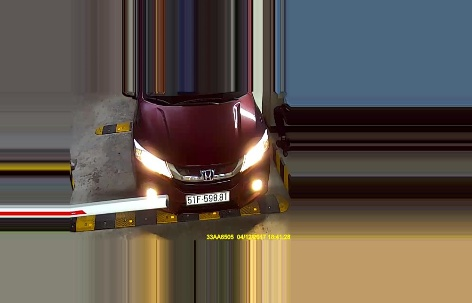plate: (182, 191, 230, 206)
